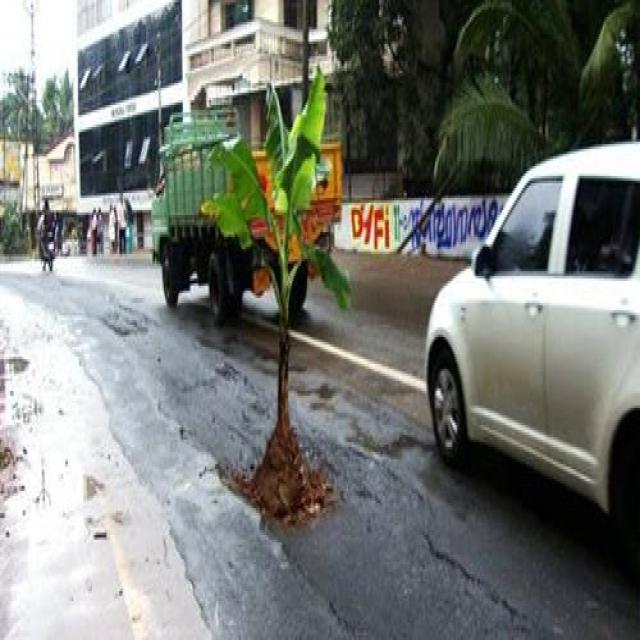Pothole: (4, 300, 298, 640)
